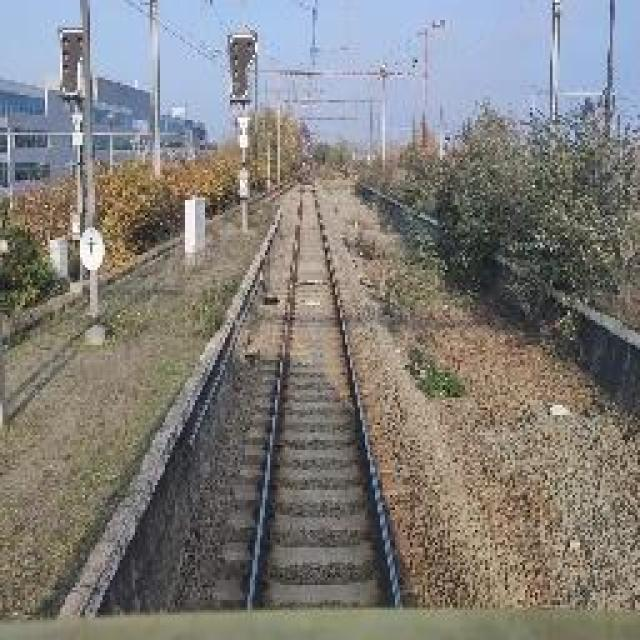rail: (198, 167, 443, 614)
